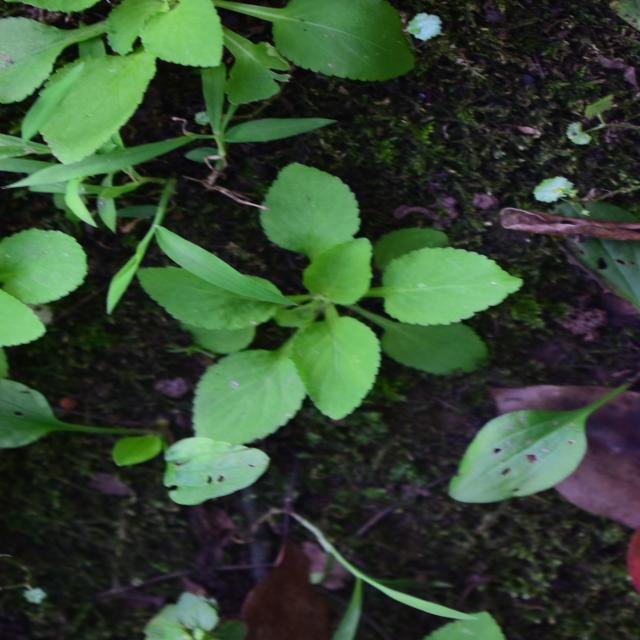Viola: (206, 165, 485, 489)
